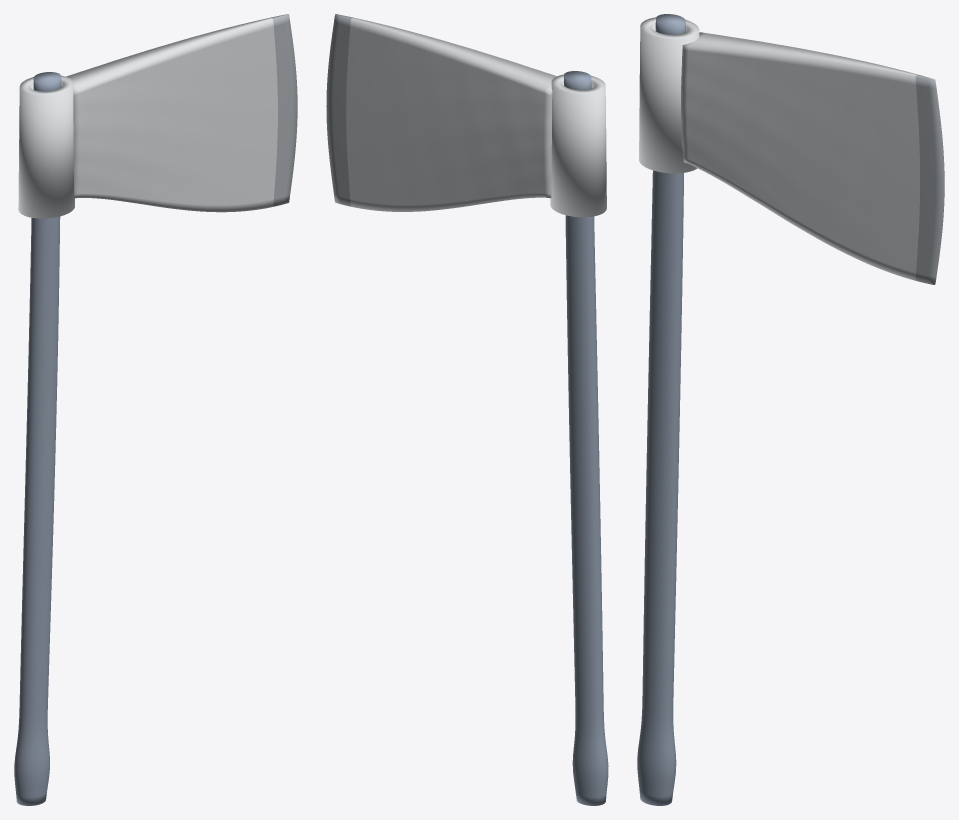
File: Axe_small.gltf
The picture shows the model from 3 angles, left to right: view 1: azimuth 30°, elevation 25°; view 2: azimuth 150°, elevation 25°; view 3: azimuth 330°, elevation 25°; orthographic projection. The views are drawn at different scales.
Visible parts, largest first — view 1: BeardedForgedHead, ContinuousAshHaft, HollowForgedEye; view 2: BeardedForgedHead, ContinuousAshHaft, HollowForgedEye; view 3: BeardedForgedHead, ContinuousAshHaft, HollowForgedEye.
Part boxes in pixels (left/top/right/bottom): BeardedForgedHead: left=66, top=14, right=297, bottom=212; ContinuousAshHaft: left=14, top=72, right=61, bottom=805; HollowForgedEye: left=18, top=75, right=74, bottom=218; BeardedForgedHead: left=326, top=14, right=556, bottom=211; ContinuousAshHaft: left=564, top=71, right=608, bottom=805; HollowForgedEye: left=550, top=74, right=606, bottom=217; BeardedForgedHead: left=681, top=32, right=944, bottom=284; ContinuousAshHaft: left=637, top=14, right=685, bottom=805; HollowForgedEye: left=639, top=17, right=699, bottom=173.
Size of the model in its own units: 0.2639 by 0.6503 by 0.04.
